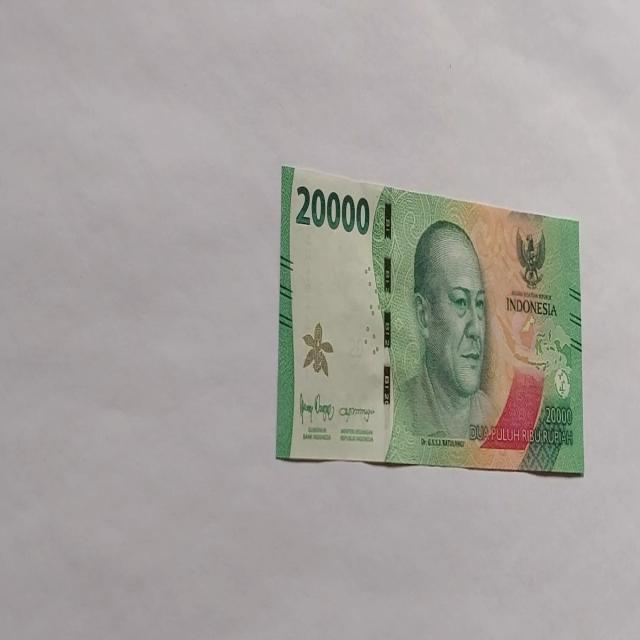dua puluh ribu rupiah: (276, 163, 584, 474), (388, 216, 502, 462)
